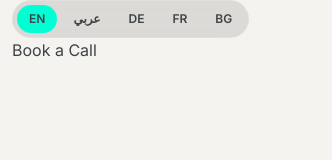
Scenario: LocaleProvider › offers every supported locale and swaps rendered site copy
Expected: the button "EN" is shown, [17,5,57,33]
Expected: the button "عربي" is shown, [61,5,112,33]
Click the button "FR": (180, 19) [160,5,199,33]
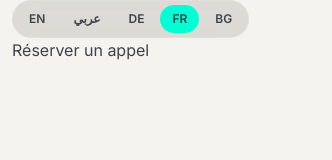
Expected: the text "Réserver un appel" is shown, [12,40,149,60]
Click the button "DE": (136, 19) [116,5,156,33]
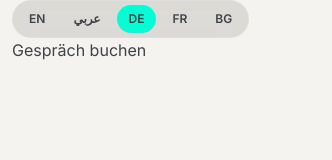
Expected: the text "Gespräch buchen" is shown, [12,40,146,60]
Click the button "BG": (224, 19) [203,5,244,33]
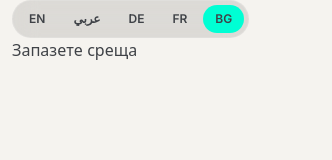
Expected: the text "Запазете среща" is shown, [12,40,137,60]
